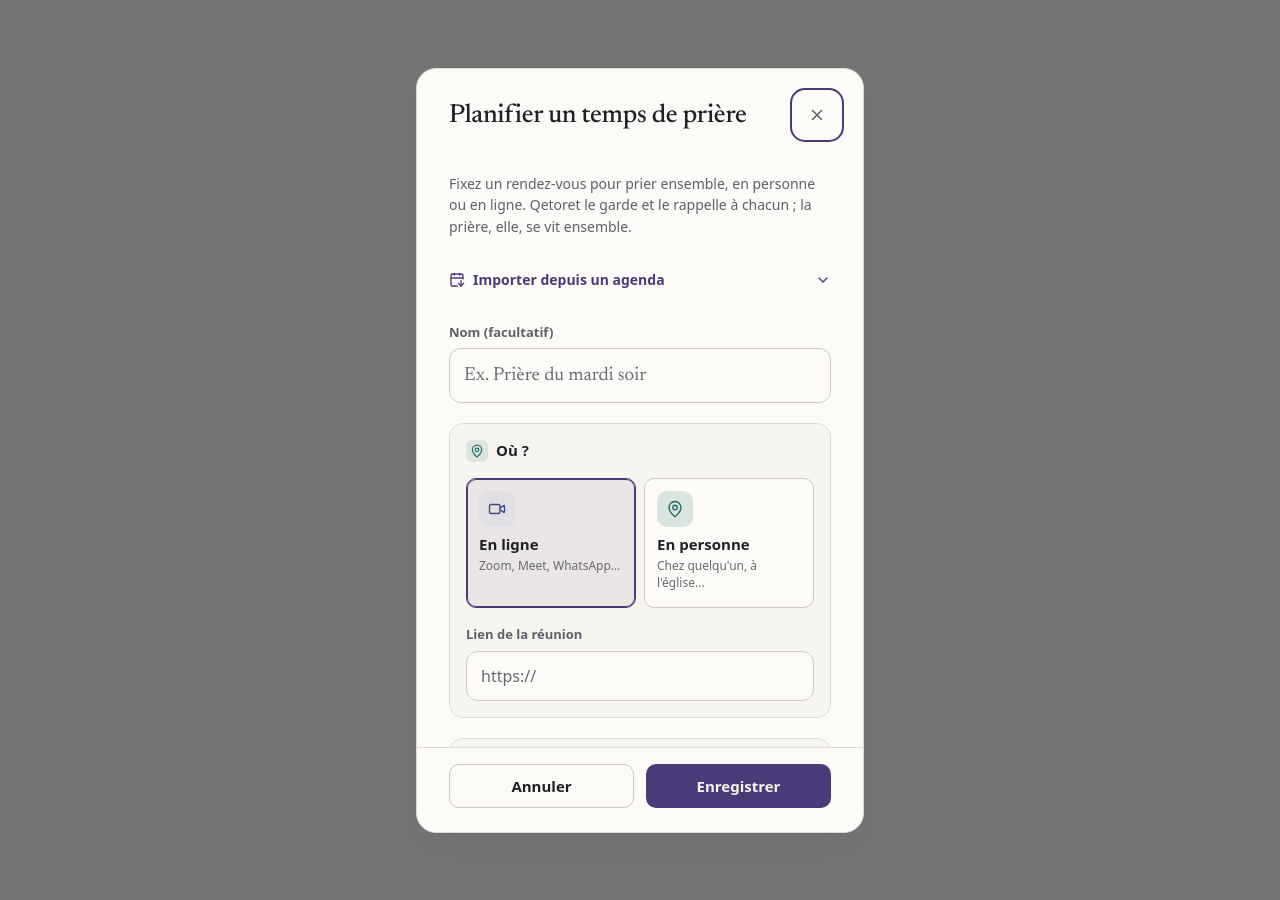
Test: GroupMeetingForm › fills itself from a calendar link, for the person to check
The image size is (1280, 900).
Click the button "Importer depuis un agenda" at (640, 280), box [449,258,831,302]
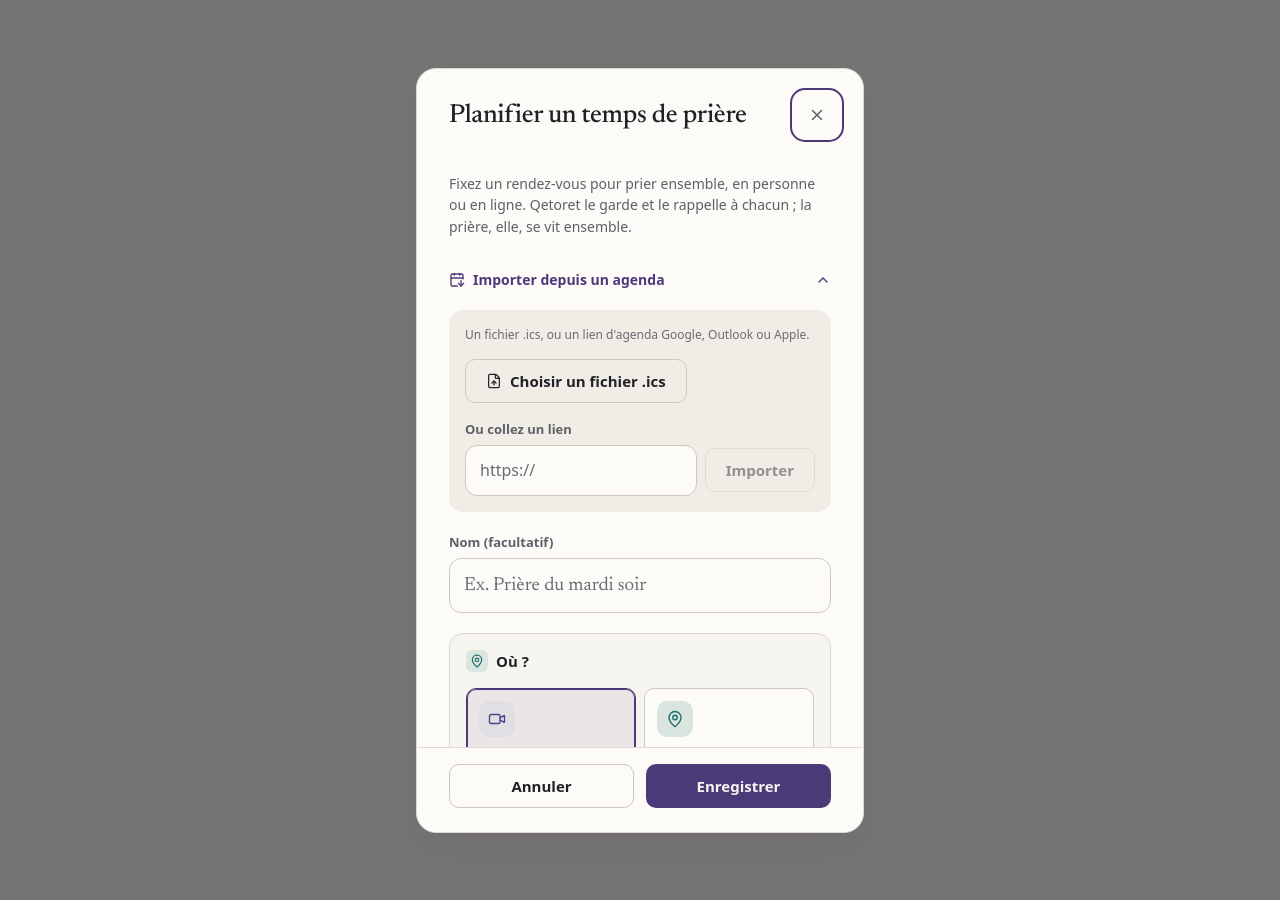
Type "https://calendar.google.com/calendar/render?action=TEMPLATE&text=Veill%C3%A9e&dates=20261030T210000/20261031T050000&location=%C3%89glise" into the field labelled "Ou collez un lien" at (581, 470), box [465,445,697,496]
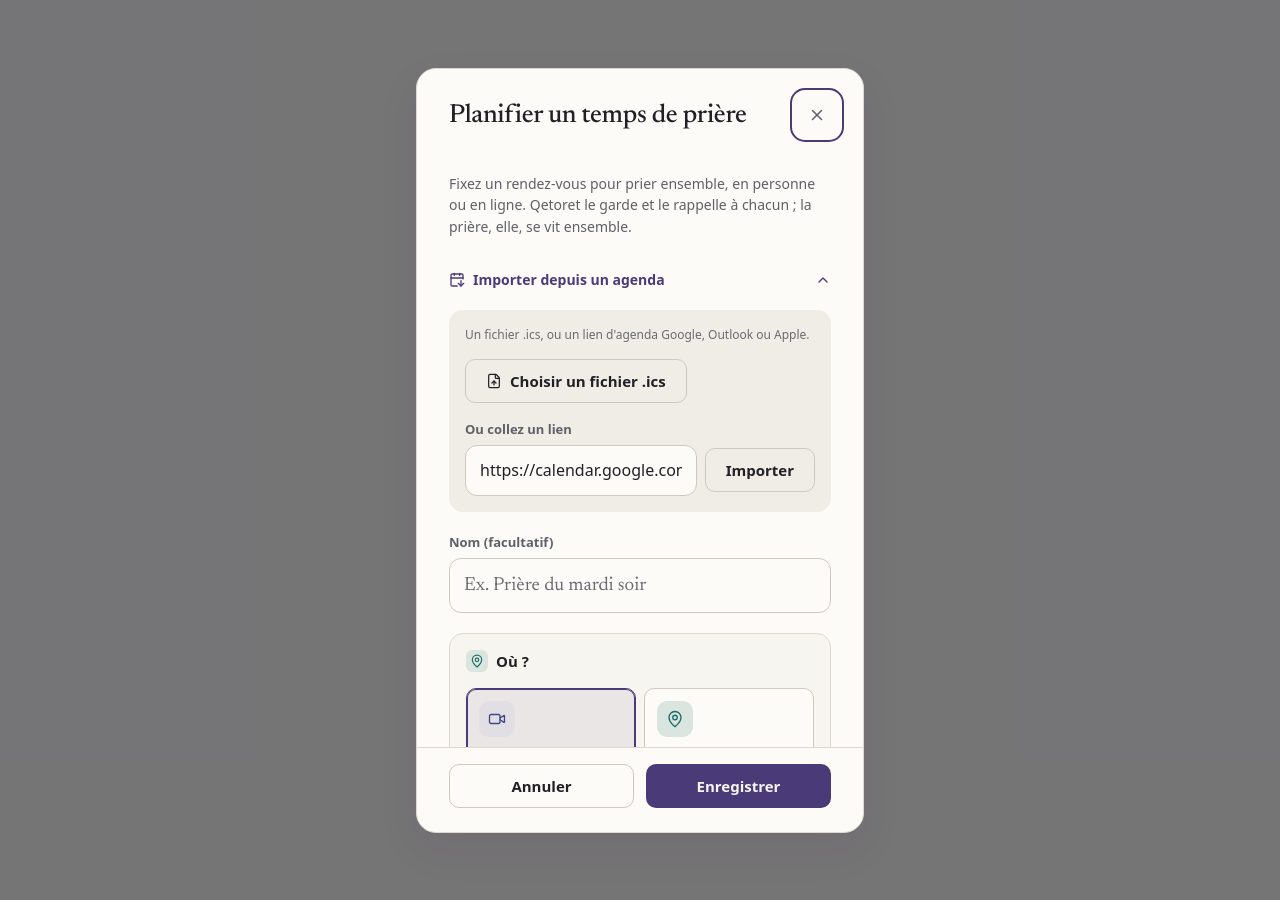
Click the button "Importer" at (760, 470), box [705,448,815,492]
(page scrolled)
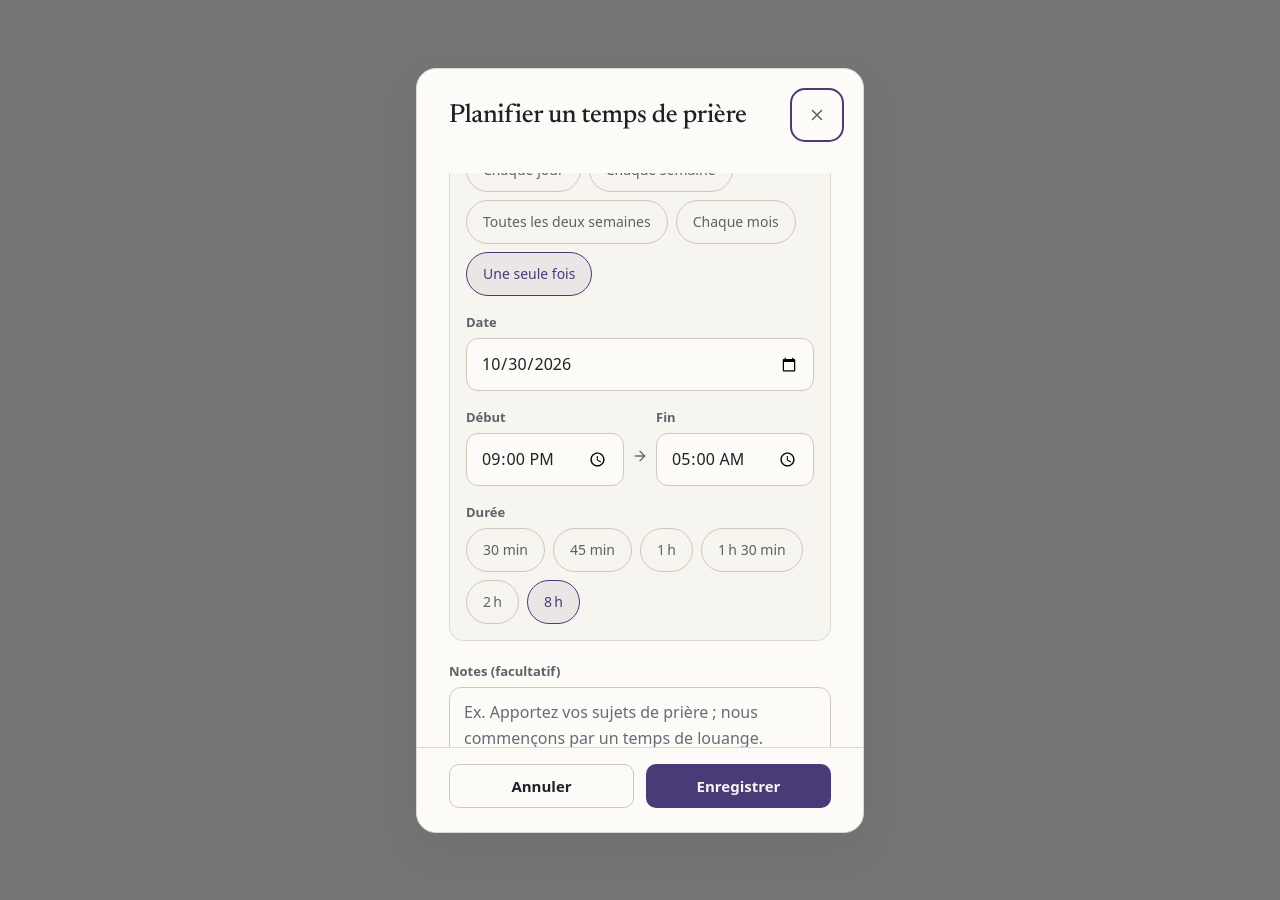
Check: the date field labelled "Date" holds "2026-10-30", box [466,338,814,391]
Check: the time field labelled "Fin" holds "05:00", box [656,433,814,486]
